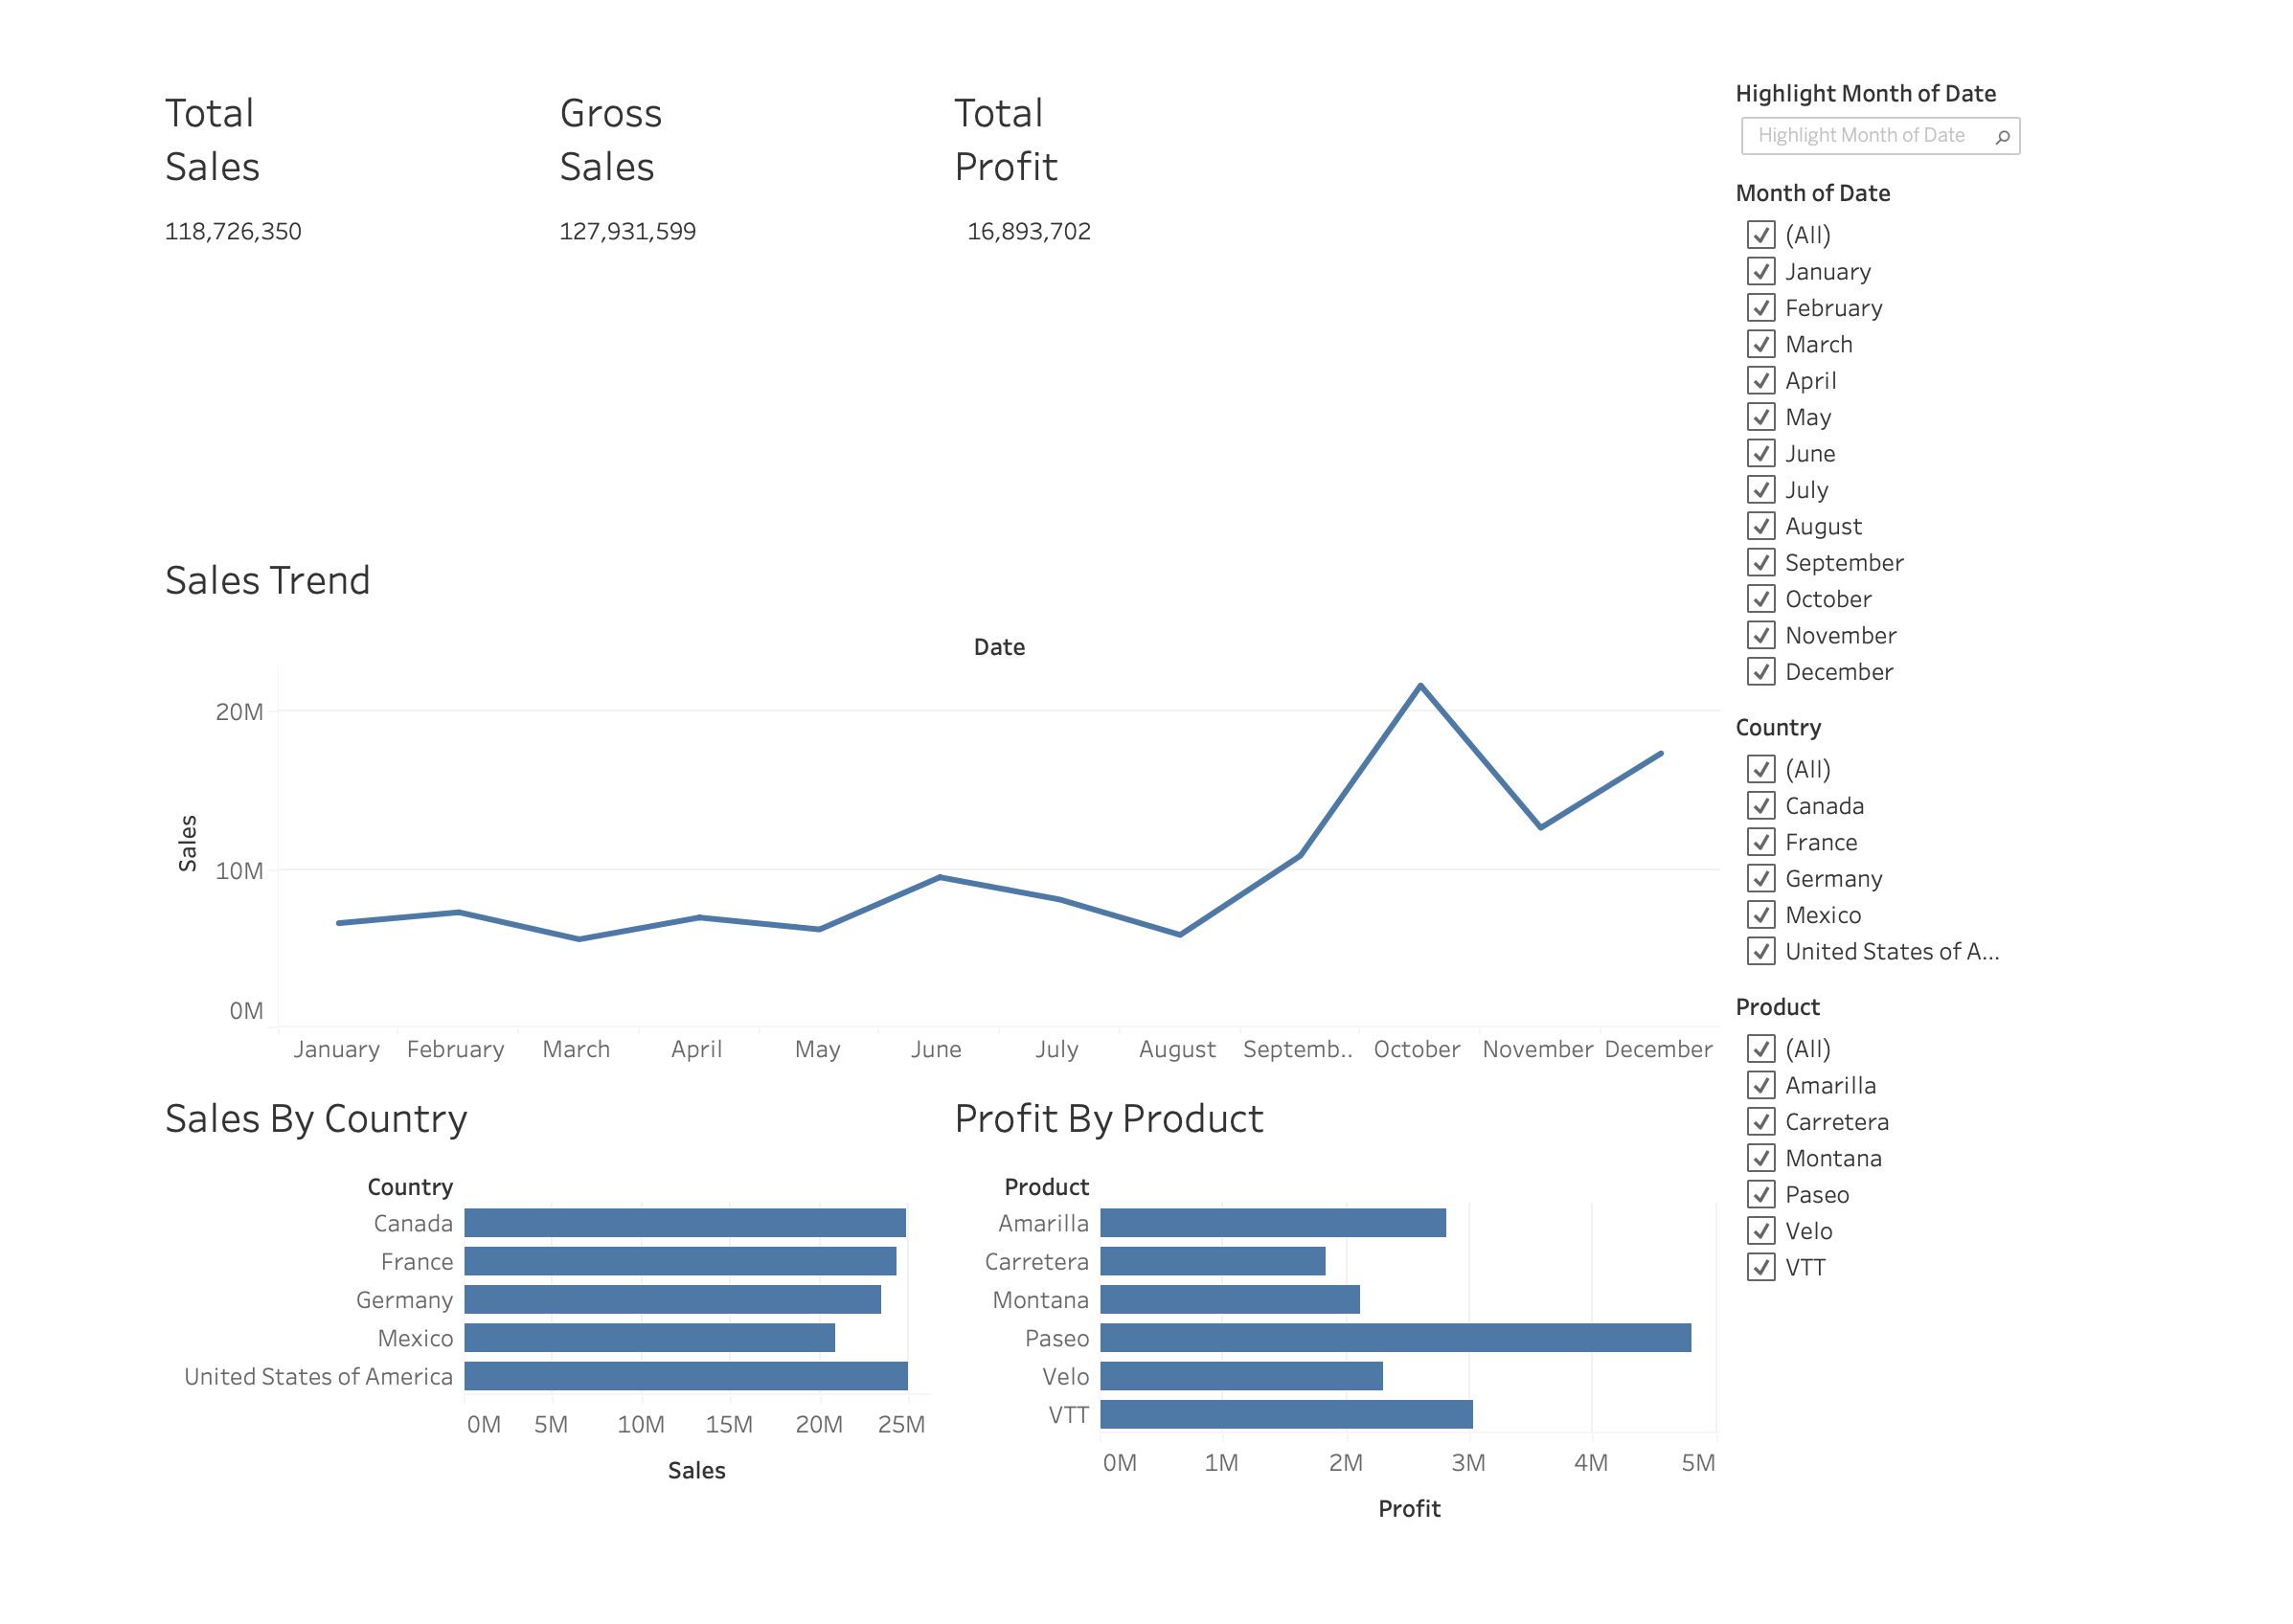

What the dashboard file says about the page in this screenshot:
{"tool":"tableau","page":{"name":"Financial Sales Dashboard","canvas":[1000,800],"ordinal":0},"visuals":[{"type":"worksheet","title":"Total Sales","mark":"Automatic","box":[8,8,206,244]},{"type":"worksheet","title":"Gross Sales","mark":"Automatic","box":[214,8,206,244]},{"type":"worksheet","title":"Total Profit","mark":"Automatic","box":[420,8,412,244]},{"type":"highlighter","title":"Sales Trend","param":"[federated.0vjijlc08gl6kd1dikm001r956ne].[mn:Date:ok]","box":[832,8,160,52]},{"type":"filter","title":"Sales Trend","param":"[federated.0vjijlc08gl6kd1dikm001r956ne].[mn:Date:ok]","box":[832,60,160,279]},{"type":"worksheet","title":"Sales Trend","mark":"Automatic","rows":["Sales"],"cols":["Date"],"box":[8,252,824,281]},{"type":"filter","title":"Sales By Country","param":"[federated.0vjijlc08gl6kd1dikm001r956ne].[none:Country:nk]","box":[832,339,160,146]},{"type":"filter","title":"Profit By Product","param":"[federated.0vjijlc08gl6kd1dikm001r956ne].[none:Product:nk]","box":[832,485,160,165]},{"type":"worksheet","title":"Sales By Country","mark":"Automatic","rows":["Country"],"cols":["Sales"],"box":[8,533,412,259]},{"type":"worksheet","title":"Profit By Product","mark":"Automatic","rows":["Product"],"cols":["Profit"],"box":[420,533,412,259]}]}

Visuals, with their boxes on the page's 1000x800 design canvas (x1, y1, x2, y2). These are canvas units, not pixel positions in the 2293x1624 screenshot, which may show the page scaled, cropped or inside an application window:
"Total Sales" worksheet: detection(8, 8, 214, 252)
"Gross Sales" worksheet: detection(214, 8, 420, 252)
"Total Profit" worksheet: detection(420, 8, 832, 252)
"Sales Trend" highlighter: detection(832, 8, 992, 60)
"Sales Trend" filter: detection(832, 60, 992, 339)
"Sales Trend" worksheet: detection(8, 252, 832, 533)
"Sales By Country" filter: detection(832, 339, 992, 485)
"Profit By Product" filter: detection(832, 485, 992, 650)
"Sales By Country" worksheet: detection(8, 533, 420, 792)
"Profit By Product" worksheet: detection(420, 533, 832, 792)
